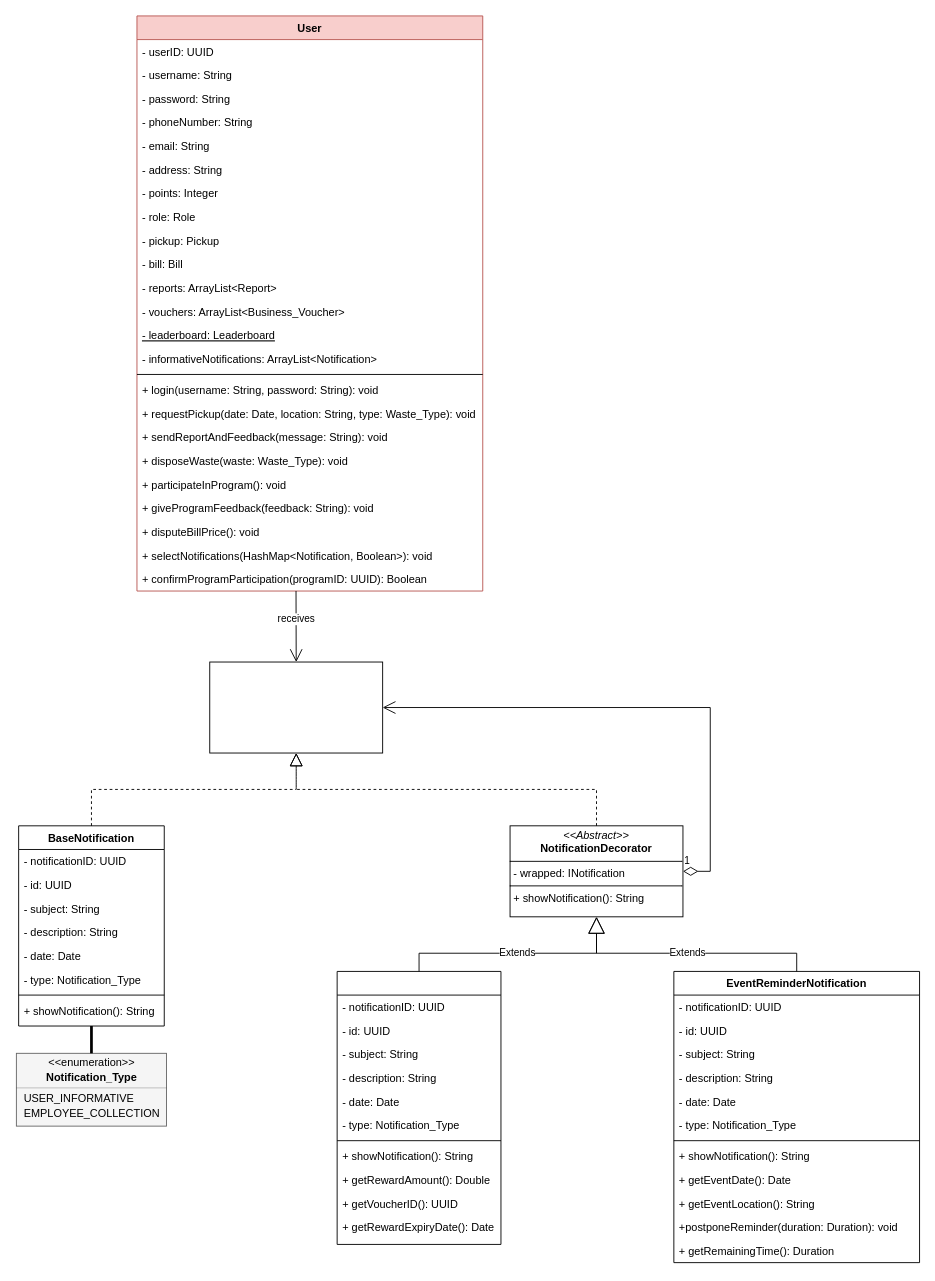
The diagram is 935 pixels wide and 1281 high, and some of its shapes have lost their labels. The shapes that lost their labels are listed below. From the top down, each one's box as (x1, y1, x2, y2) in pixels, then its label:
(209, 661, 383, 753): <<Interface>> INotification + showNotification(): String
(336, 971, 501, 1244): RewardNotification
